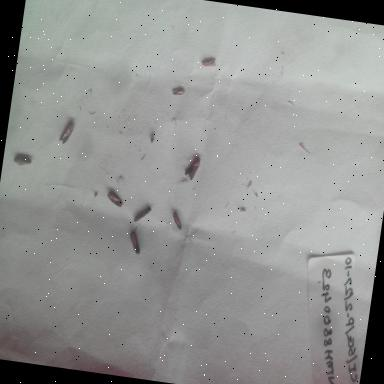pbw: (122, 226, 146, 258), (55, 116, 79, 148), (182, 150, 204, 184), (9, 146, 36, 171), (130, 202, 154, 230), (102, 187, 126, 212), (168, 206, 188, 232), (198, 52, 220, 72), (168, 82, 188, 103)
